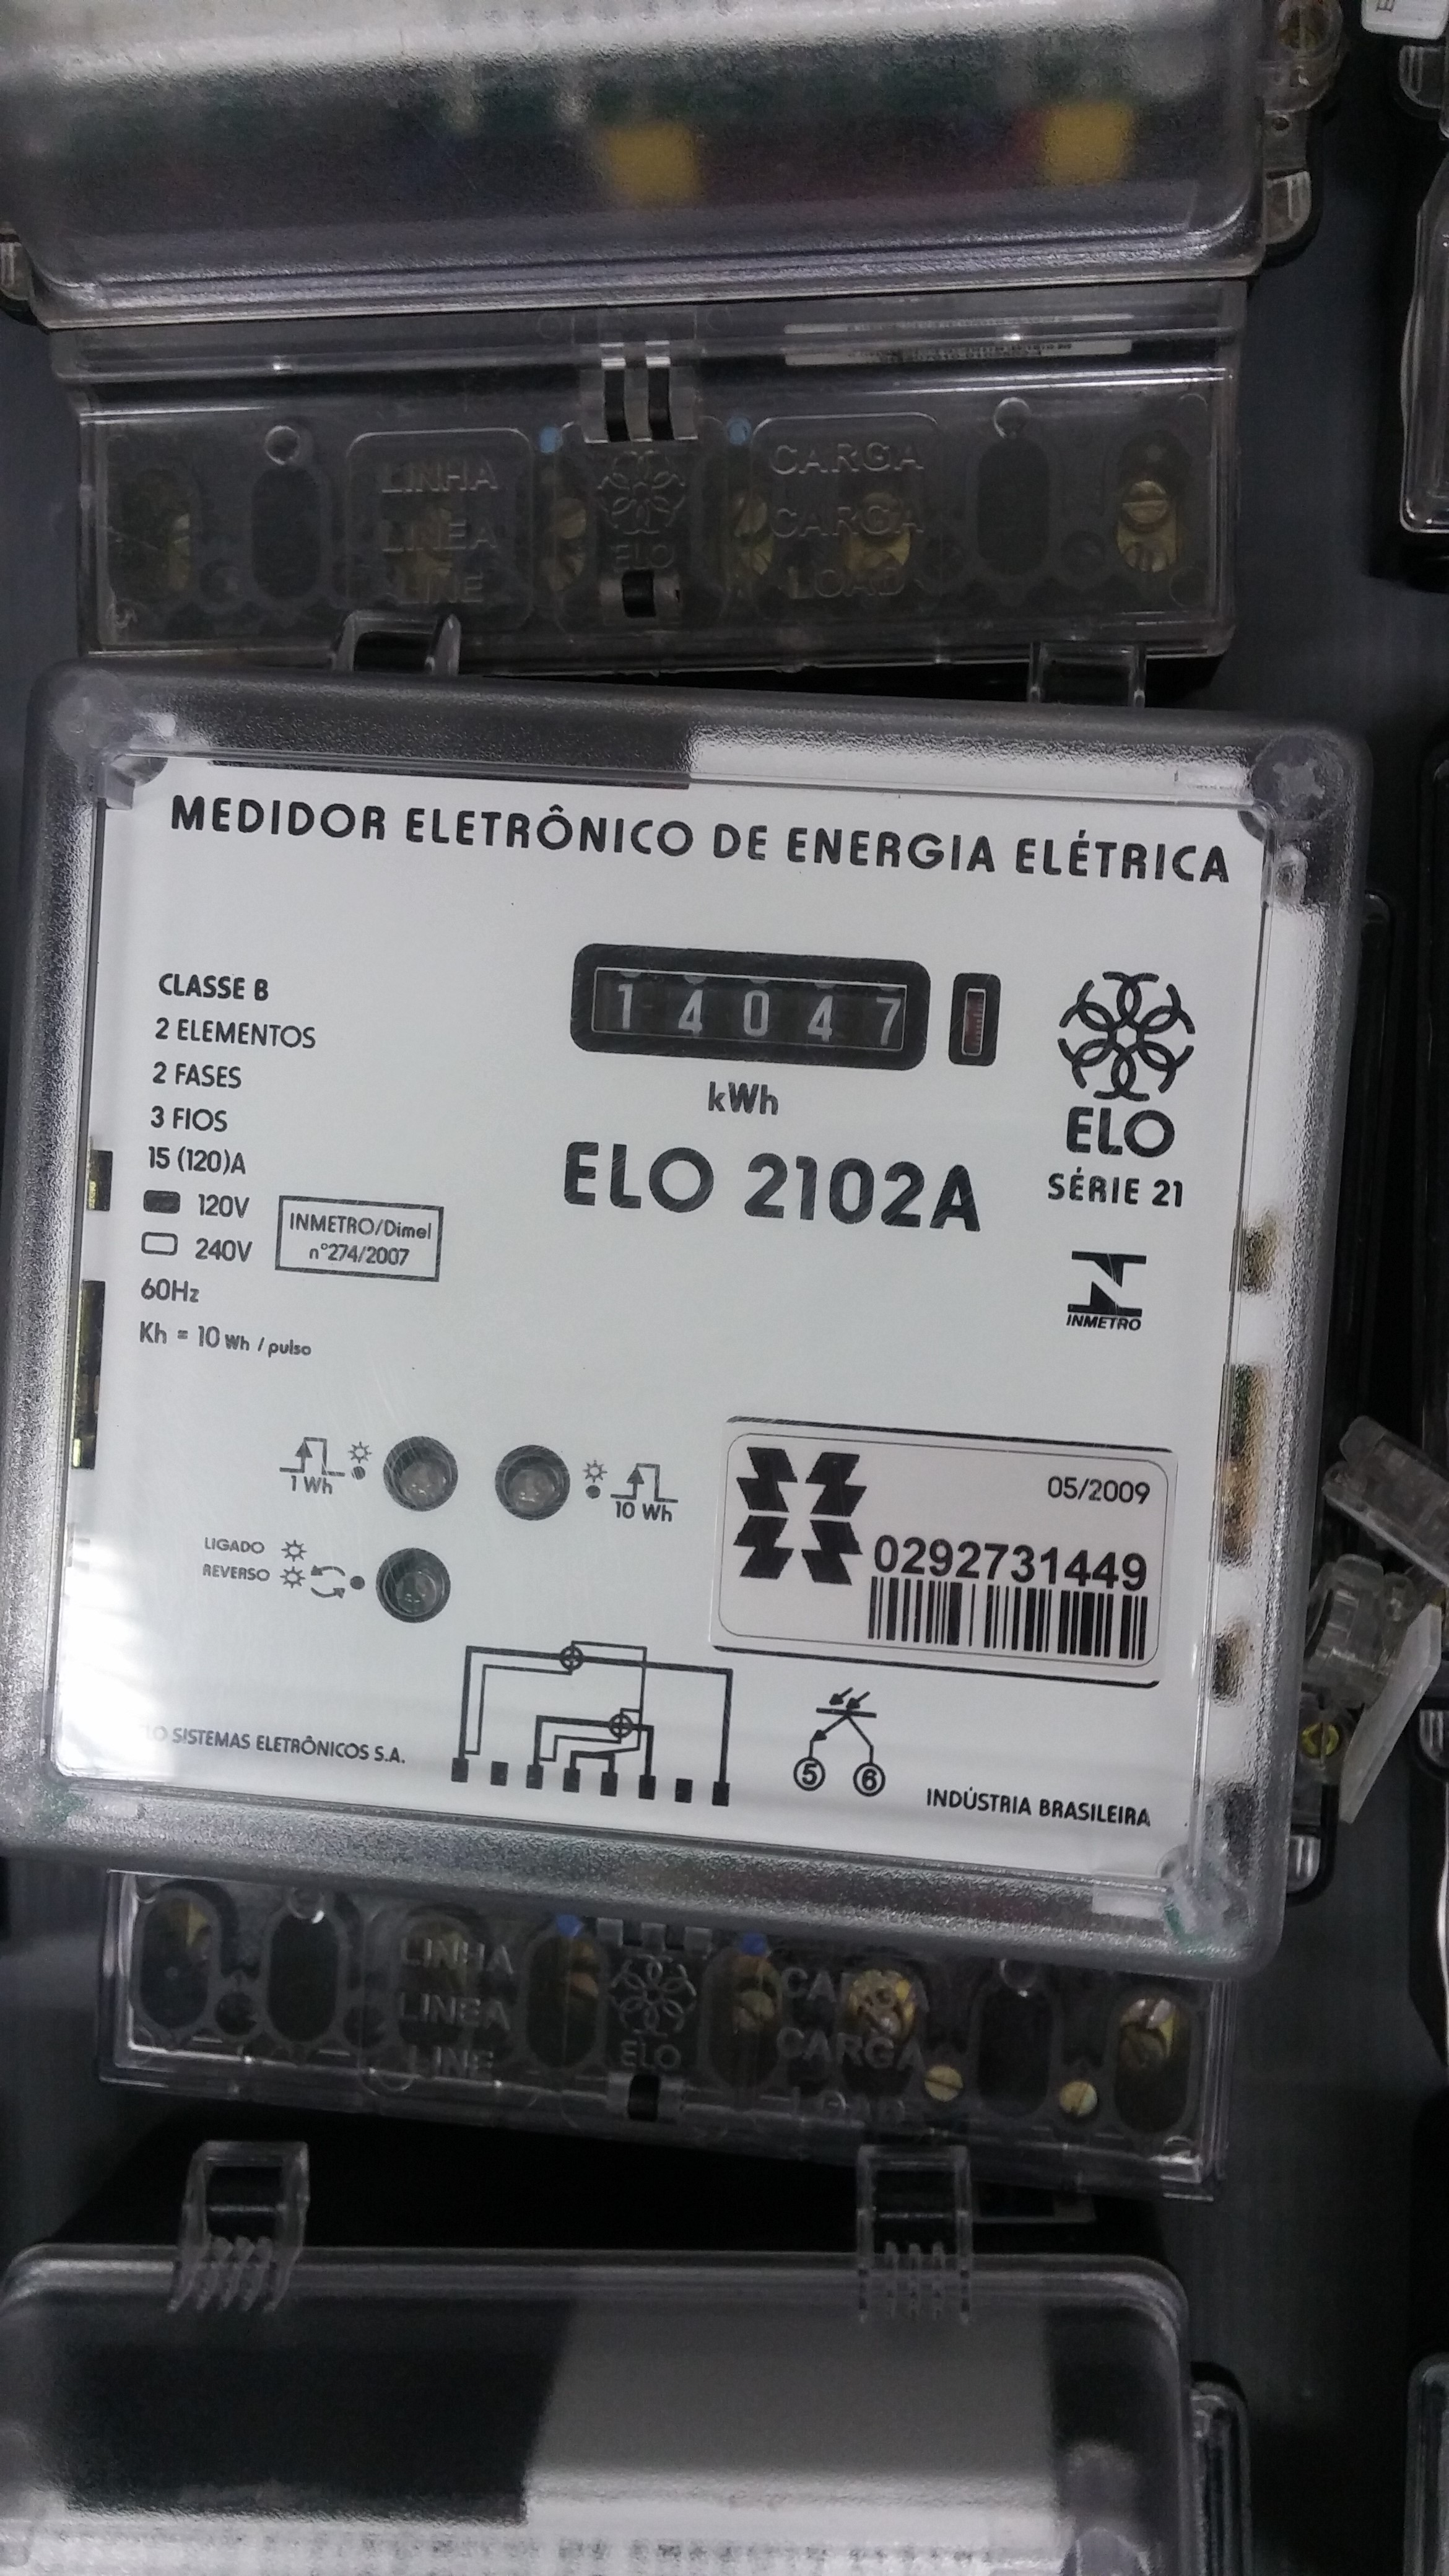counter2: (568, 920, 952, 1083)
